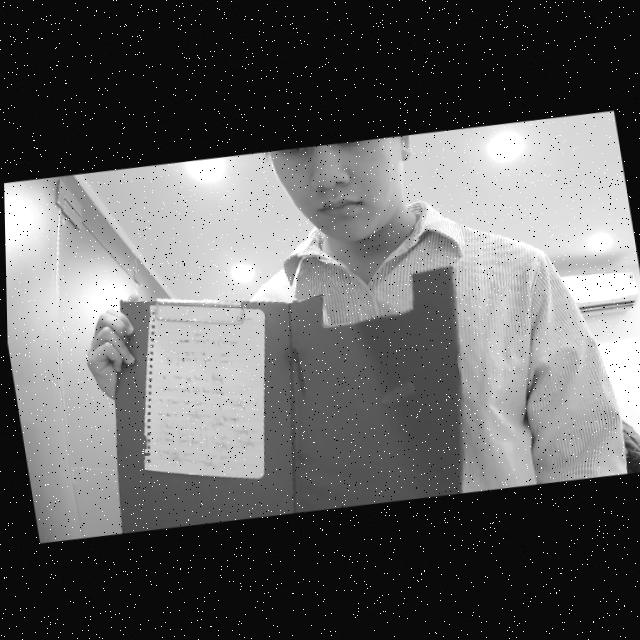document: (144, 305, 264, 478)
